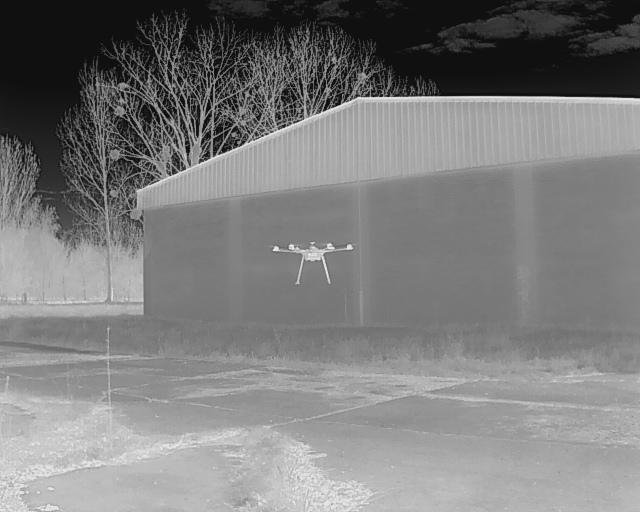drone: (266, 233, 361, 288)
